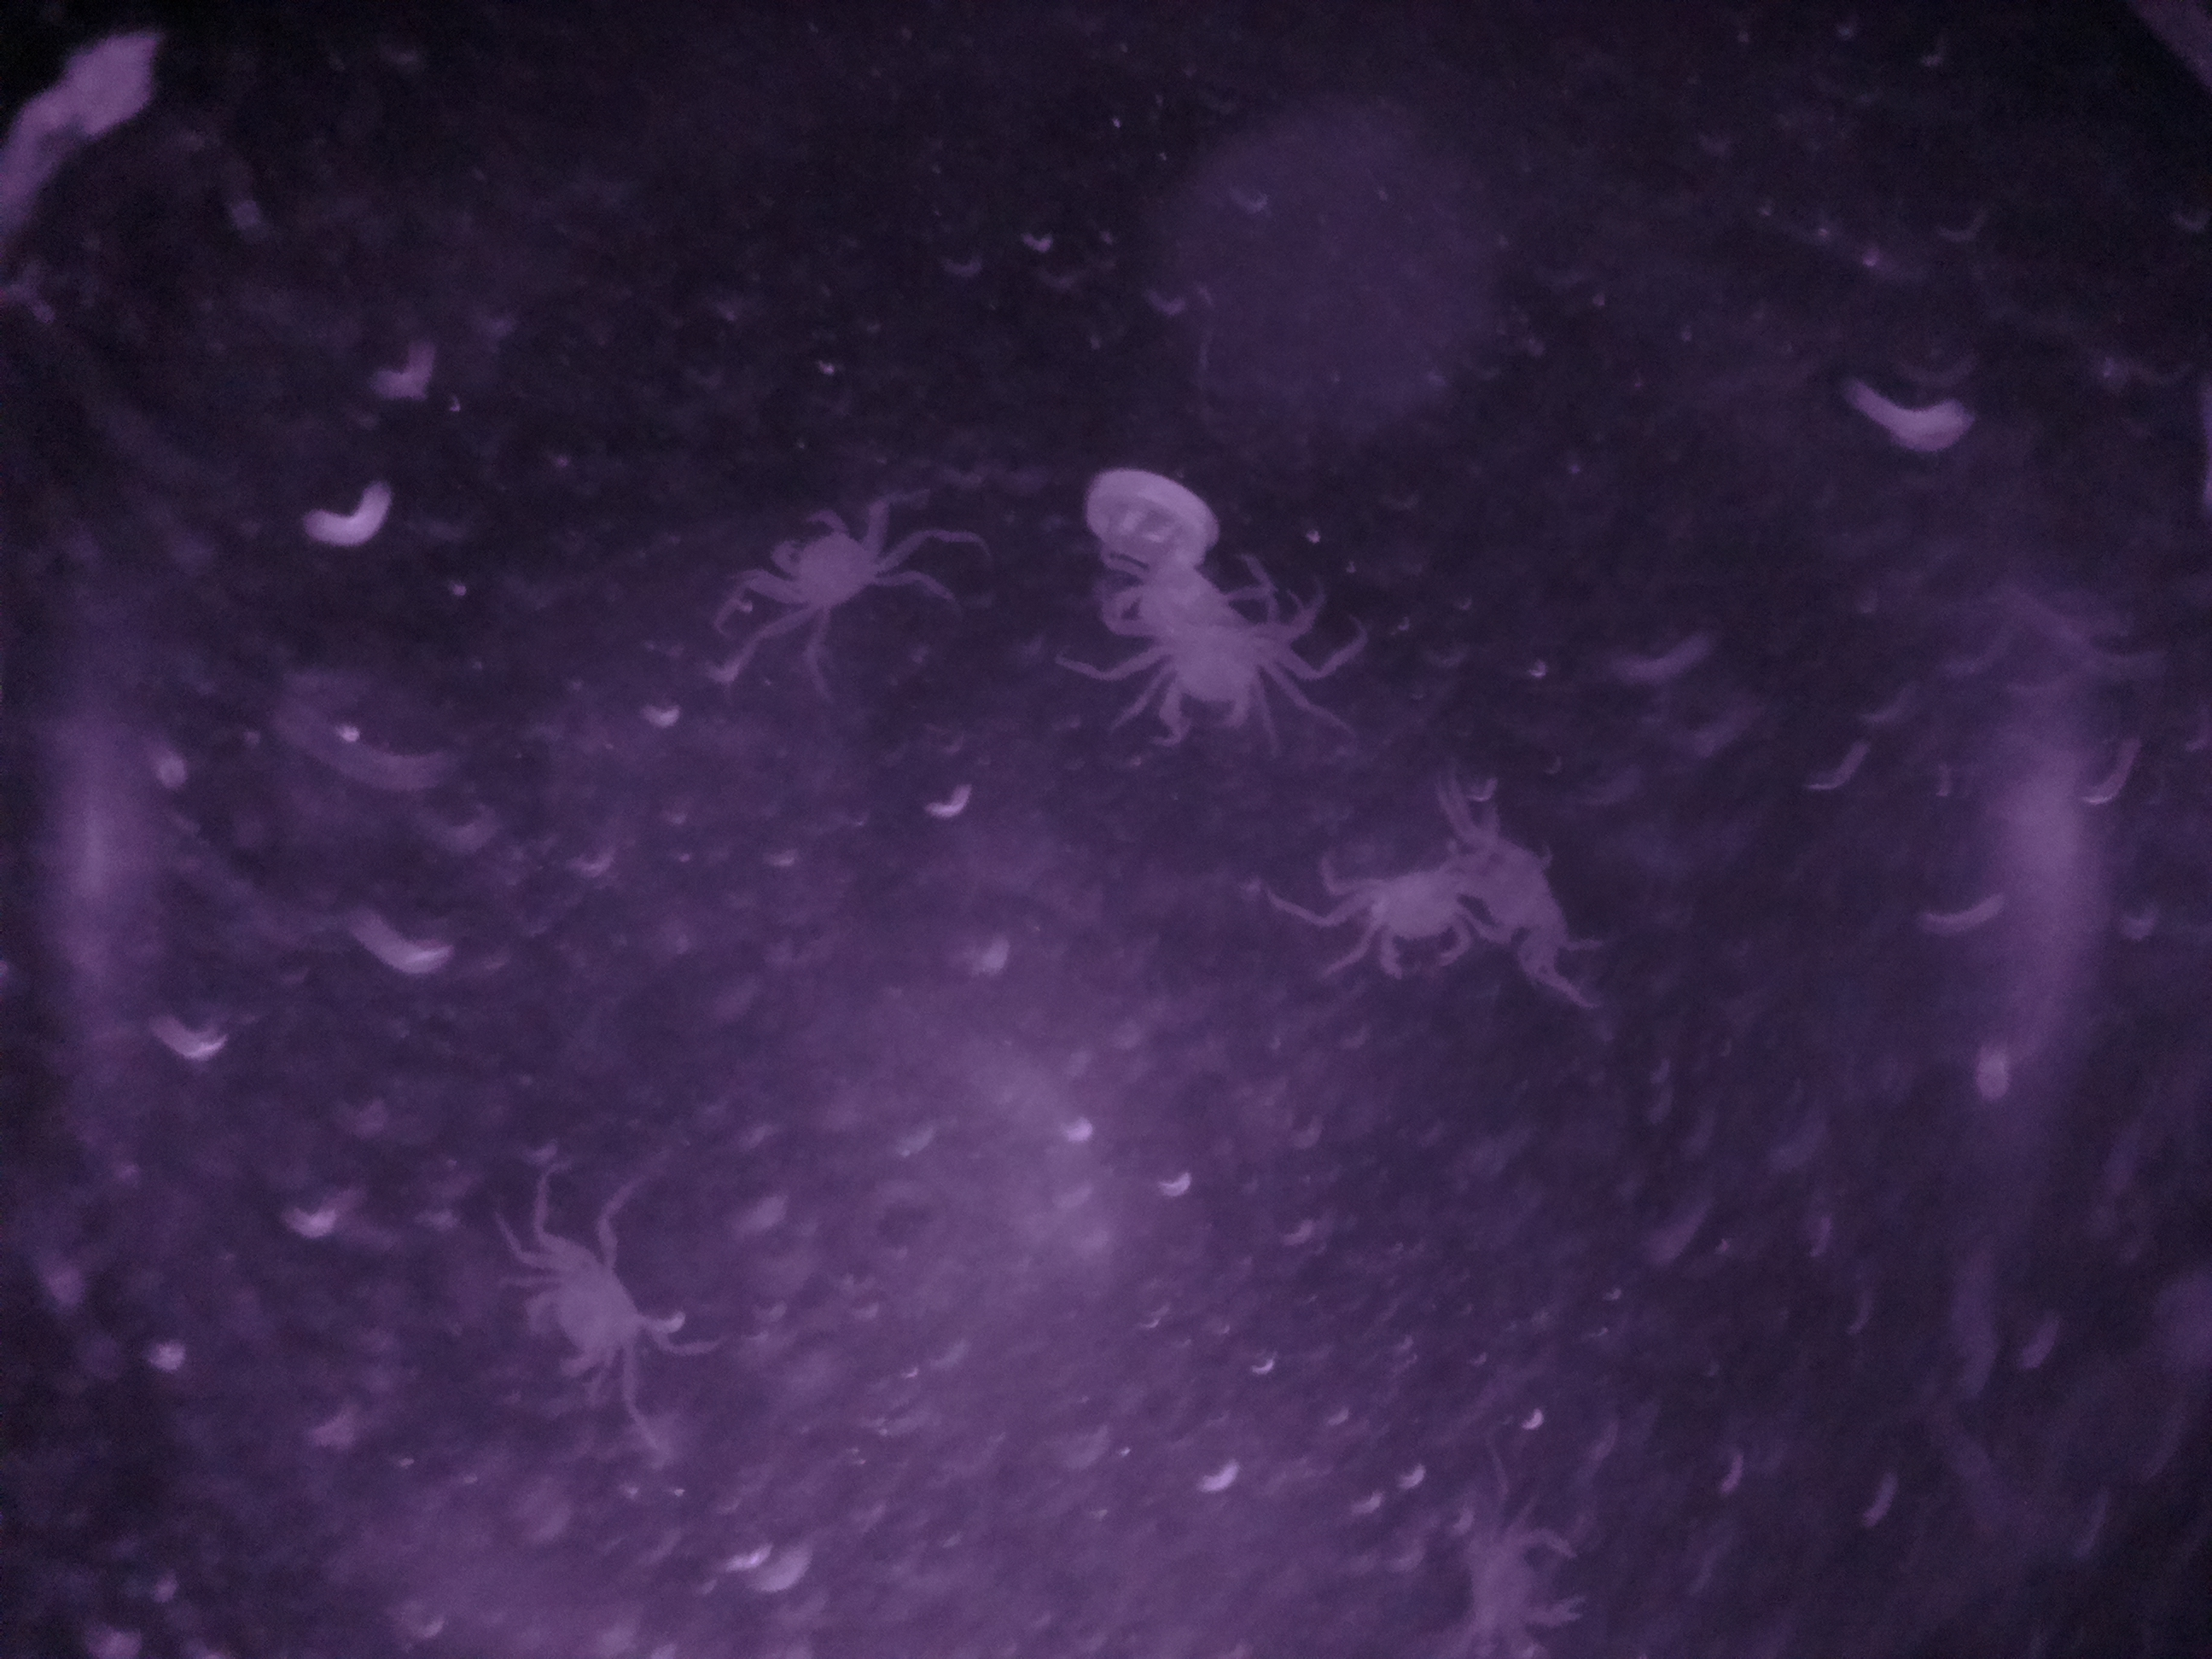Crab: (716, 471, 944, 697), (491, 1202, 685, 1439), (1308, 843, 1508, 993)
